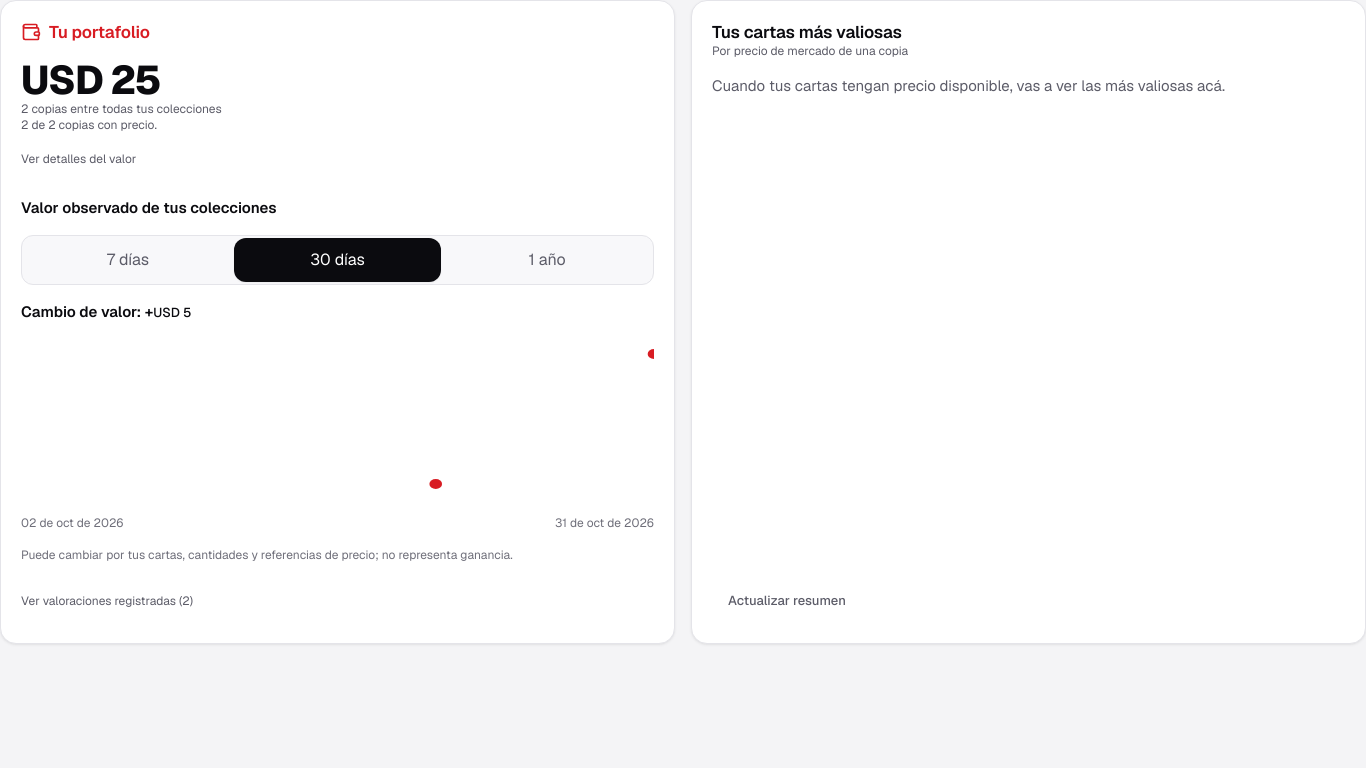
Test: grafica observaciones reales y permite consultar otro período
Expected: the picture named "Valor observado de tus colecciones" is shown, [21,339,654,499]
Click the button "7 días" at (128, 260), box [24,238,232,282]
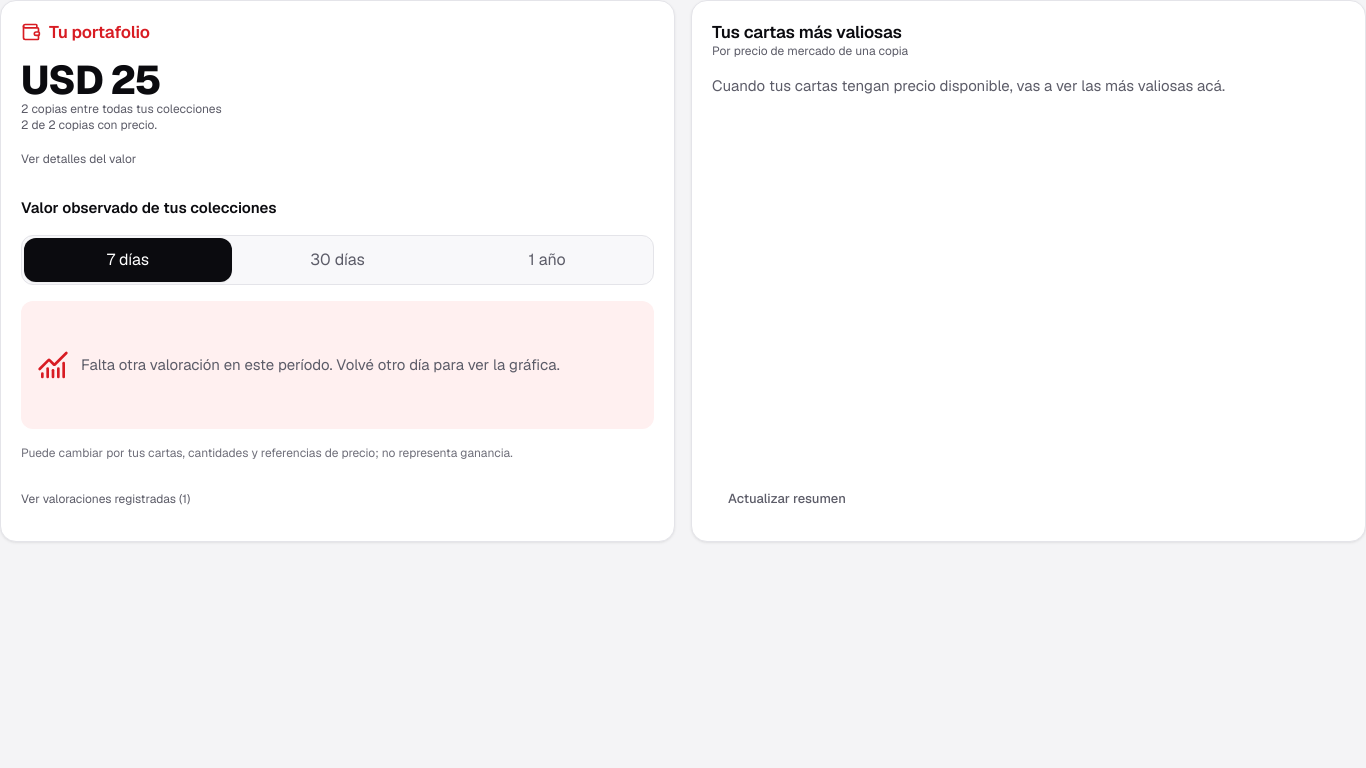
Expected: the picture is gone
Expected: the text "Falta otra valoración en este período" is shown, [81,355,560,374]
